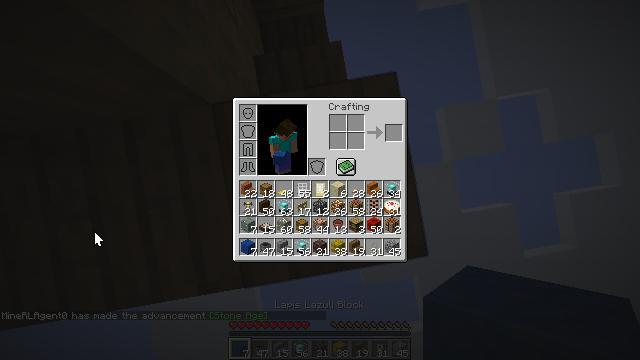cursor: (94, 231, 104, 247)
